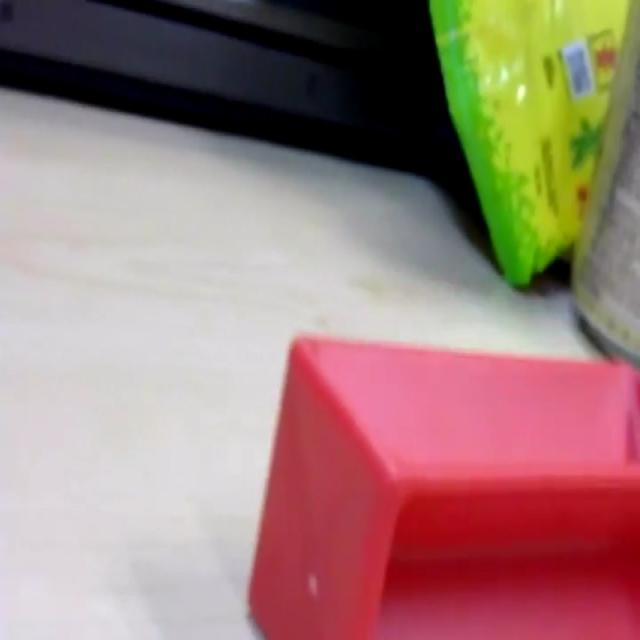red_block: (246, 328, 639, 636)
